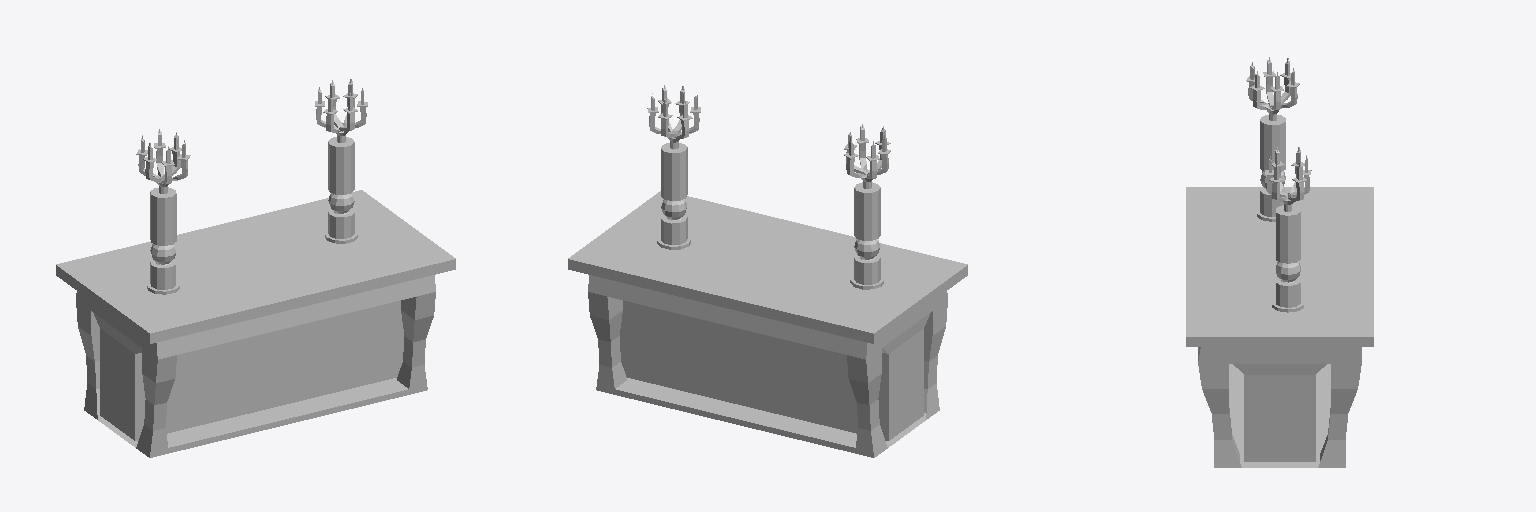
File: End_Table.obj
The picture shows the model from 3 angles: view 1: azimuth 30°, elevation 25°; view 2: azimuth 150°, elevation 25°; view 3: azimuth 270°, elevation 25°; orthographic projection.
Visible parts, largest first — view 1: Candle_Stand; view 2: Candle_Stand; view 3: Candle_Stand.
Boxes of the visible parts, box(x1,y1,x2,y2) form: Candle_Stand: box(56, 79, 455, 457); Candle_Stand: box(568, 85, 967, 457); Candle_Stand: box(1186, 57, 1373, 467).
Bounding box in the file's own units: 1.52 × 1.37 × 0.8112.